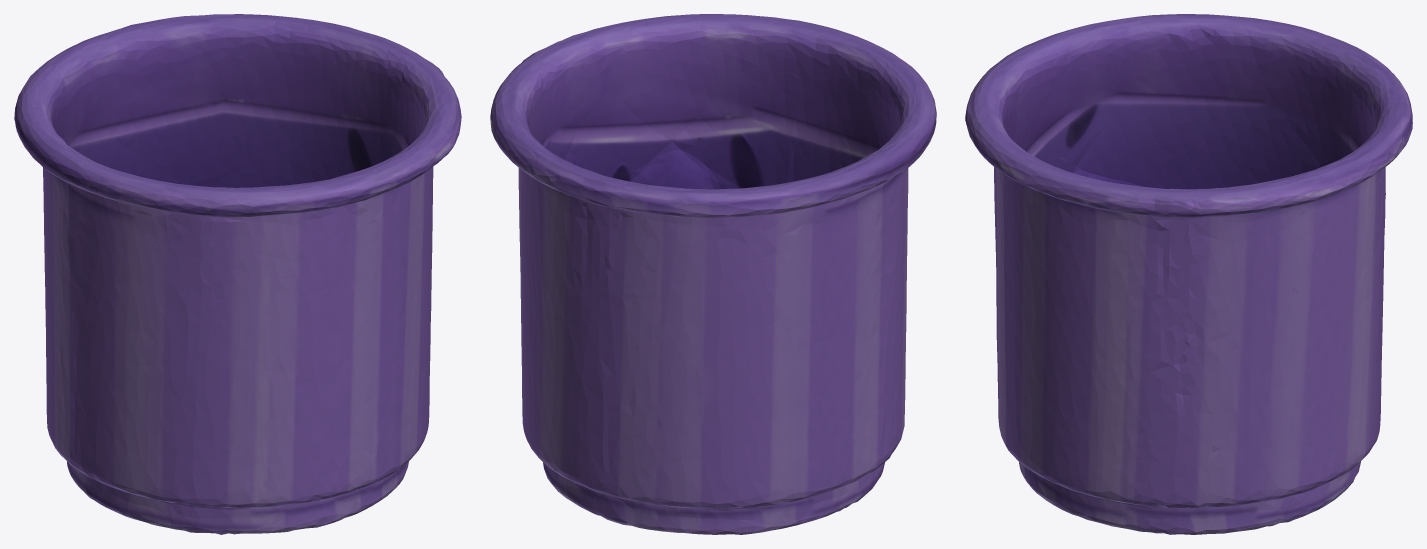
The model's file is cup.glb.
3 renders of one model, left to right at view 1: azimuth 30°, elevation 25°; view 2: azimuth 150°, elevation 25°; view 3: azimuth 270°, elevation 25°, orthographic.
Visible parts, largest first — view 1: 065-f_cups_textured.obj; view 2: 065-f_cups_textured.obj; view 3: 065-f_cups_textured.obj.
Boxes of the visible parts, box(x1,y1,x2,y2) form: 065-f_cups_textured.obj: box(14, 14, 461, 534); 065-f_cups_textured.obj: box(490, 14, 936, 534); 065-f_cups_textured.obj: box(965, 14, 1412, 534).
Size of the model in its own units: 0.0807 by 0.0722 by 0.0809.
Materials: 1 (1 with a texture image).
